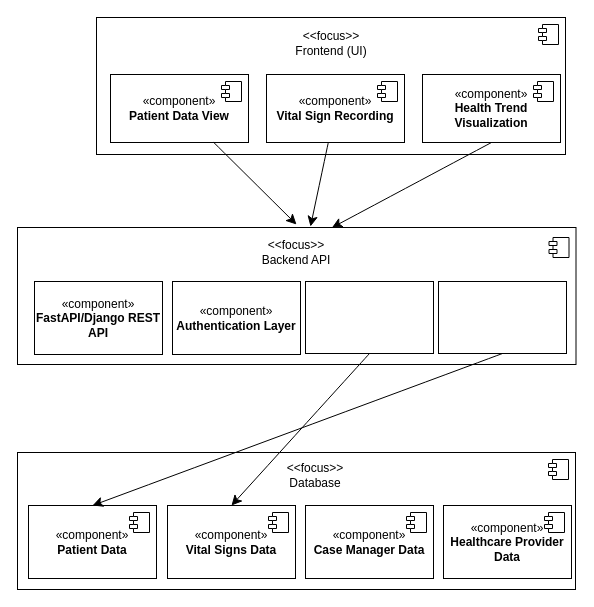
Image size: 594x607. Some labels were removed from this diagram. The centre of each missing label's shape, as x and y in pixels:
«component» Patient Data Management: the point at 502,317
«component» Vital Signs Management: the point at 369,317
